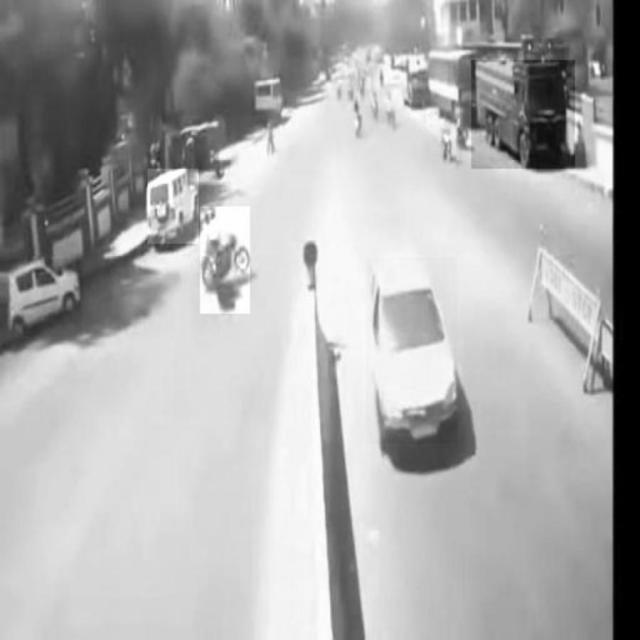accident: (201, 207, 251, 315)
vehicle: (366, 258, 457, 444), (472, 61, 575, 169), (9, 259, 82, 336), (148, 170, 199, 244)
